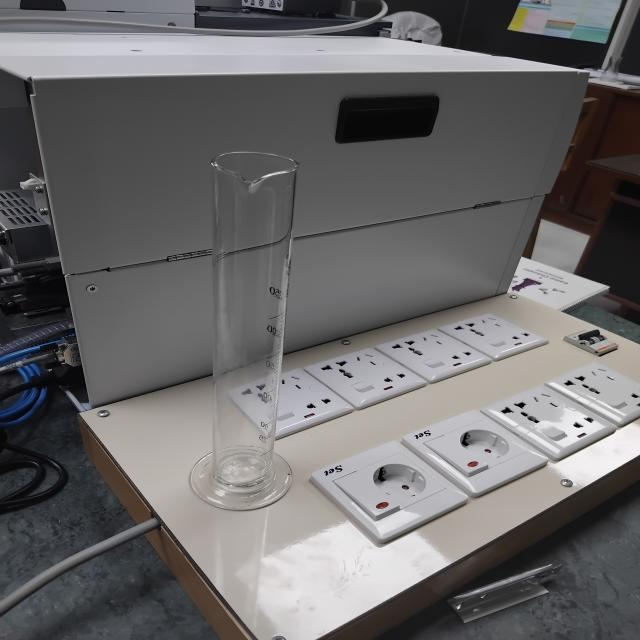Measuring_Cylinder: (167, 110, 330, 526)
